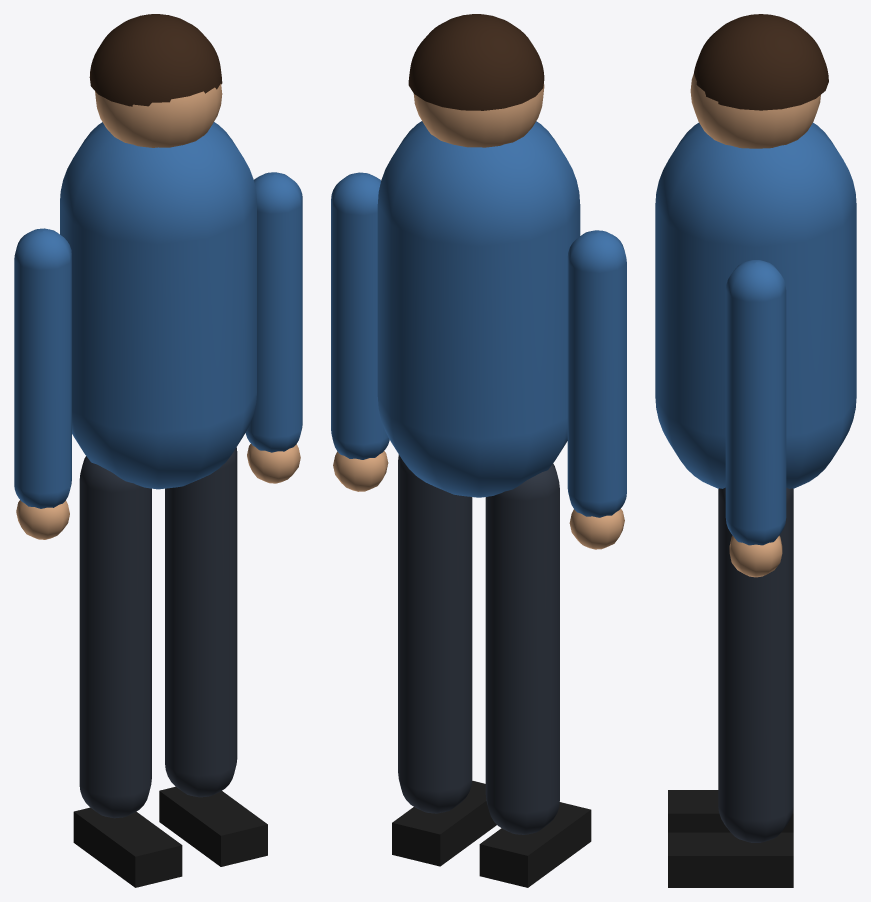
File: resident.glb
3 views of the same model, side by side, from view 1: azimuth 30°, elevation 25°; view 2: azimuth 150°, elevation 25°; view 3: azimuth 270°, elevation 25° (orthographic). The views are drawn at different scales.
Parts seen in each view (by area): view 1: resident; view 2: resident; view 3: resident.
Boxes of the visible parts, <box> form: resident: <box>14,14,302,887</box>; resident: <box>331,14,626,887</box>; resident: <box>655,14,856,887</box>.
Size of the model in its own units: 0.6541 by 1.83 by 0.3999.
1 material, 1 textured.
